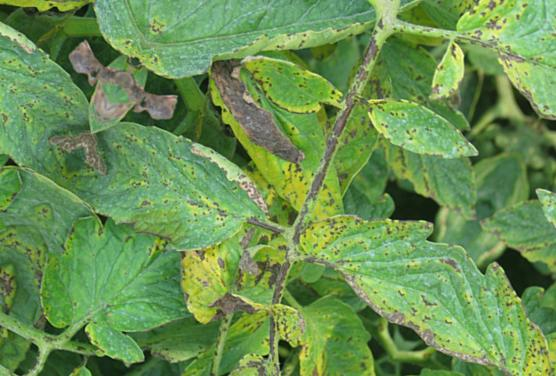Tomato leaf bacterial spot: (135, 0, 456, 179), (59, 85, 297, 301), (21, 168, 239, 376), (278, 148, 477, 347), (350, 72, 492, 192), (424, 0, 556, 120), (254, 284, 405, 376), (232, 35, 353, 141), (416, 36, 485, 116)
